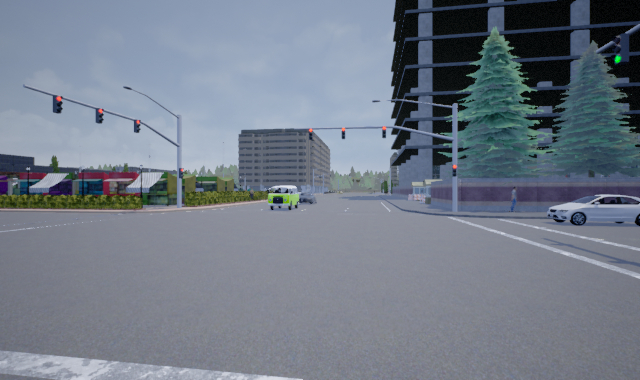pedestrian: (507, 185, 520, 212)
traffic_light: (613, 31, 631, 66), (52, 94, 63, 115), (96, 105, 105, 124), (134, 117, 141, 134), (451, 163, 458, 178), (308, 124, 314, 141), (341, 126, 347, 141), (381, 125, 387, 139), (179, 168, 186, 180)
vehicle: (545, 194, 639, 225), (267, 185, 301, 212), (295, 192, 315, 205)
